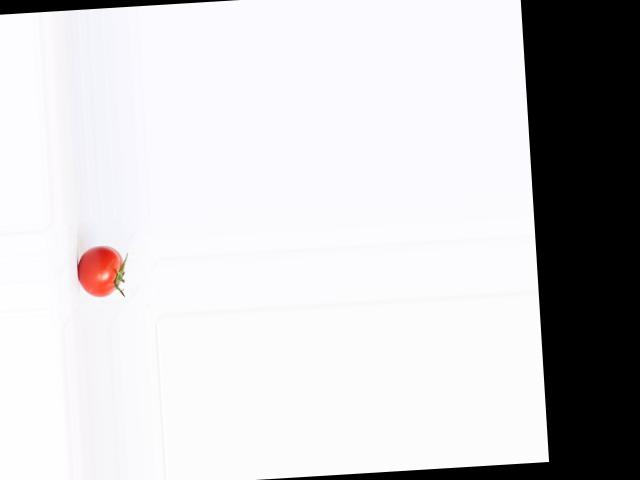tomato: (76, 243, 124, 297)
